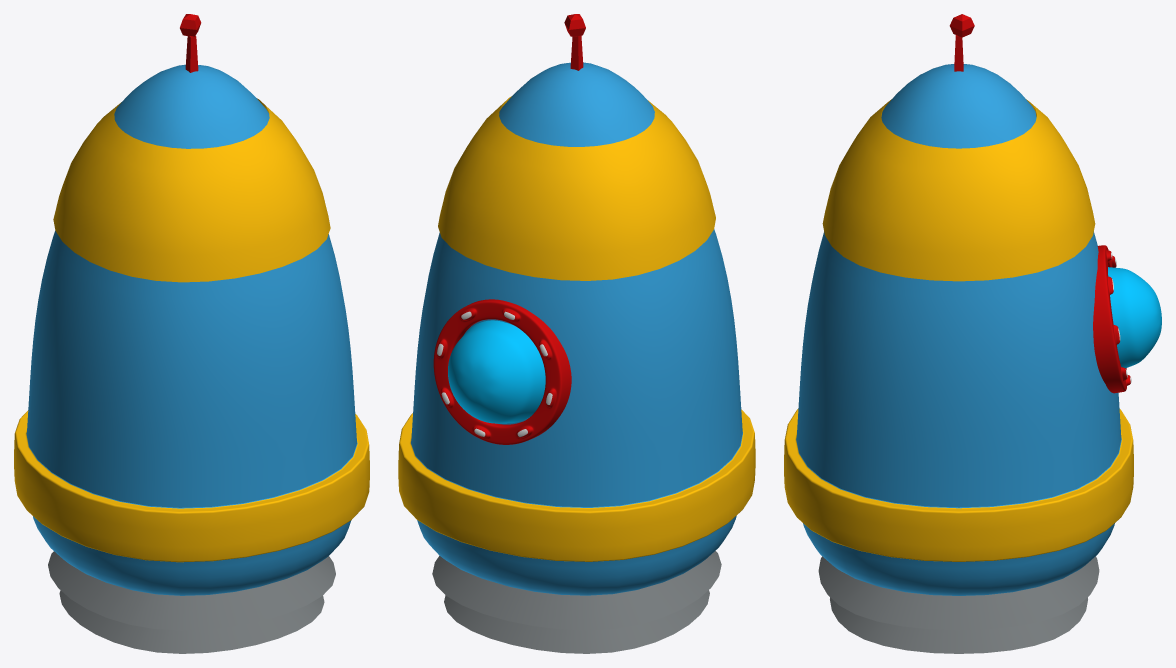
Rendered from Blue ship.fbx.
The picture shows the model from 3 angles, left to right: view 1: azimuth 30°, elevation 25°; view 2: azimuth 150°, elevation 25°; view 3: azimuth 270°, elevation 25°; orthographic projection.
Visible parts, largest first — view 1: Blue Ship; view 2: Blue Ship, Window; view 3: Blue Ship, Window.
Part boxes in pixels (x1,y1,x2,y2): Blue Ship: (14, 14, 369, 653); Blue Ship: (398, 14, 755, 653); Window: (433, 299, 571, 444); Blue Ship: (784, 14, 1133, 653); Window: (1093, 245, 1161, 393).
Size of the model in its own units: 319 by 590 by 345.
